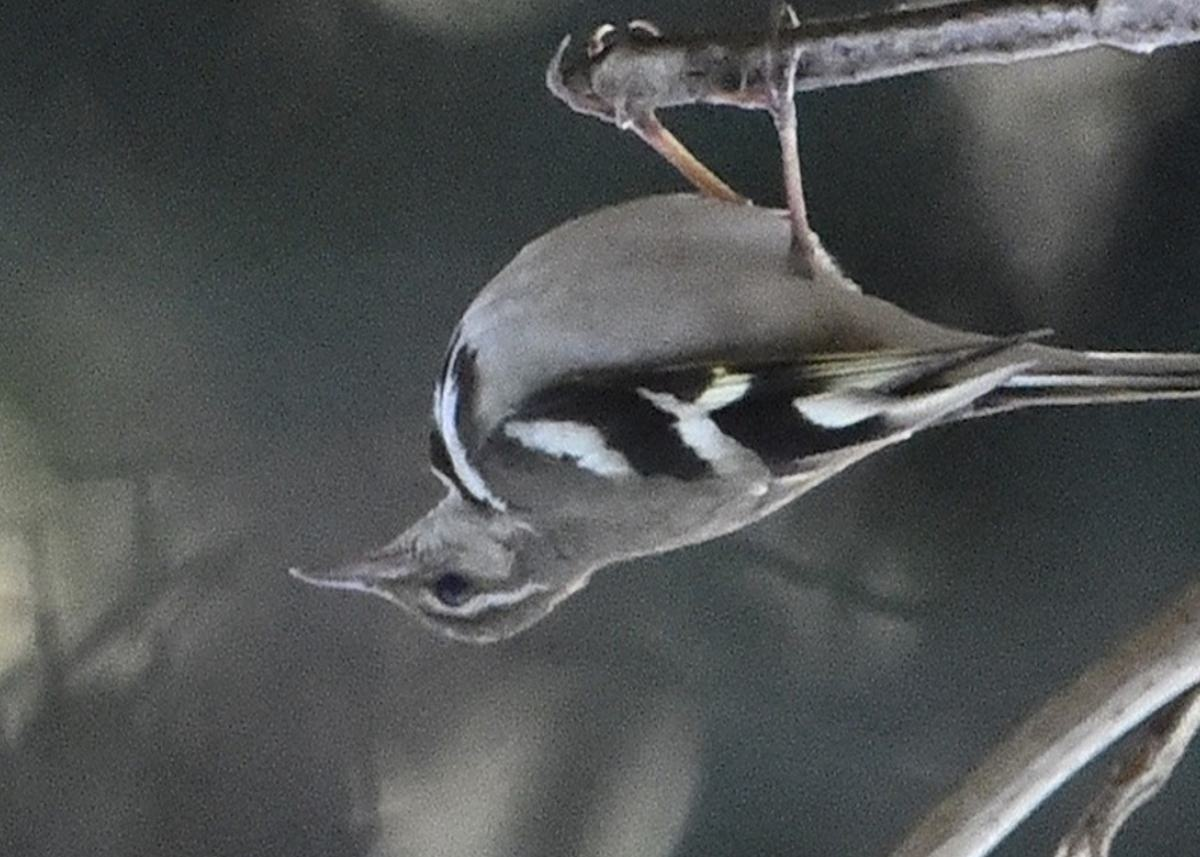wagtail: (296, 118, 1180, 682)
